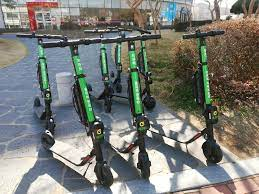kick_board: (17, 33, 61, 130)
kick_handler: (183, 29, 224, 42), (106, 35, 162, 44), (17, 31, 62, 42), (85, 27, 117, 35)
kick_neck: (72, 59, 105, 152), (198, 49, 218, 132), (130, 51, 143, 139), (37, 49, 53, 108), (100, 48, 111, 90)
kick_wheel: (94, 162, 114, 186), (202, 142, 222, 163), (139, 153, 152, 177), (41, 131, 53, 150), (143, 96, 155, 108), (104, 100, 110, 111)
